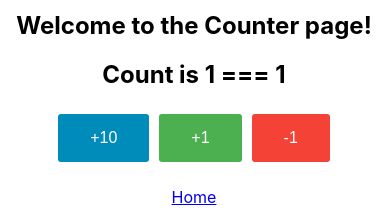
Test: Counter › increments by one the counter
Click the button "+1". click: (200, 138)
box: [159, 114, 242, 162]
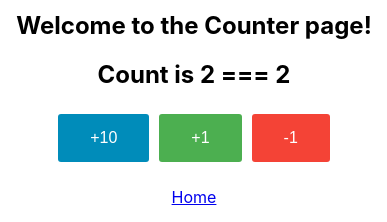
Result: the heading "Count is 2 === 2" is shown at [98, 60, 290, 89]
